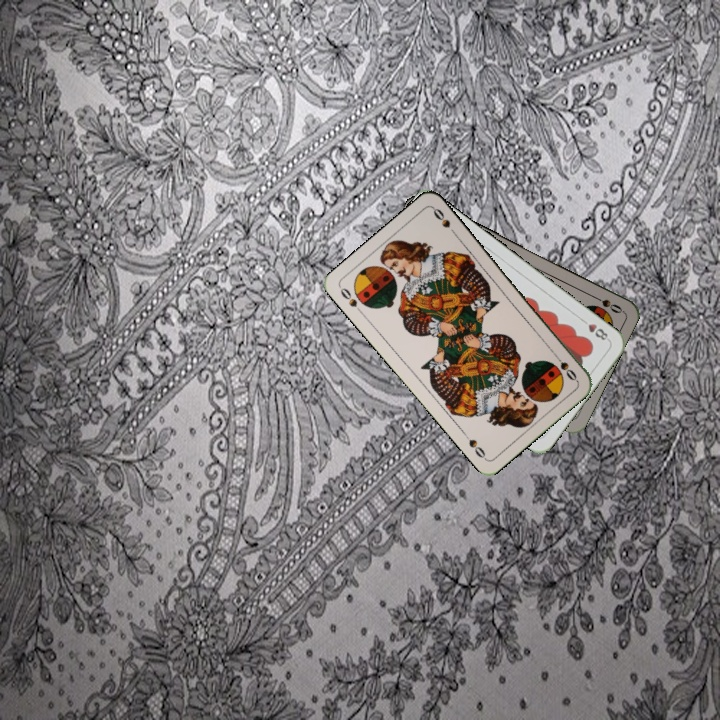H8: (577, 315, 612, 343)
SO: (550, 349, 580, 383), (336, 283, 366, 317), (587, 291, 625, 316)
